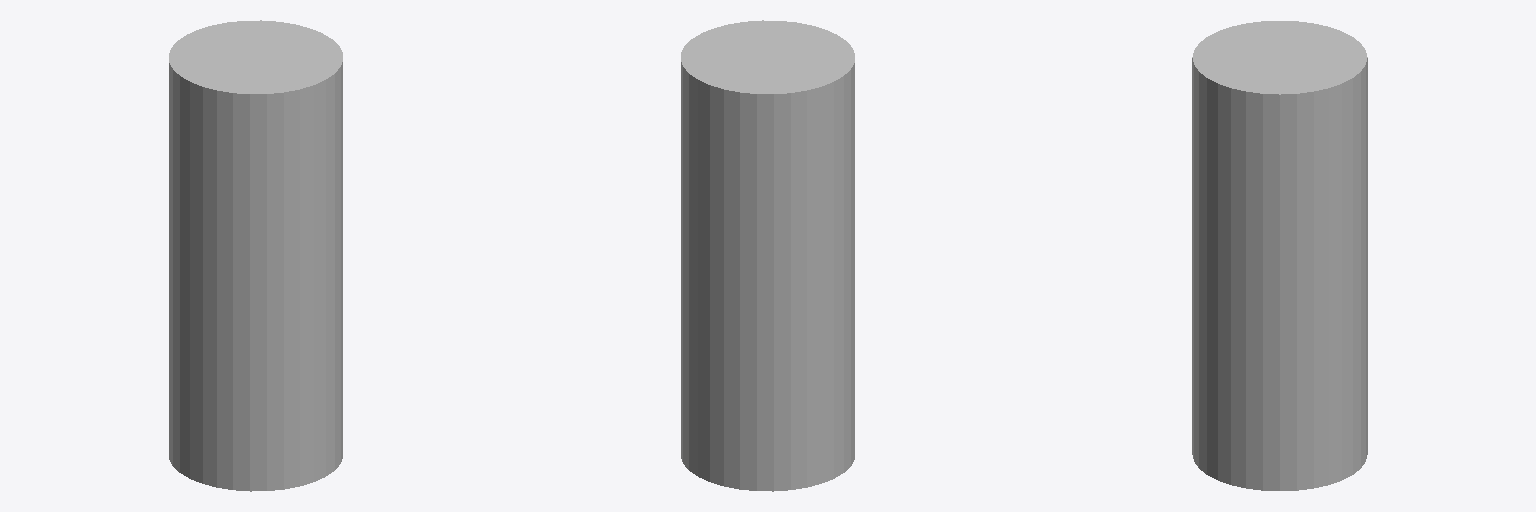
The robot description file, URDF, robot "ur5":
<?xml version="1.0" encoding="utf-8"?>
<!-- =================================================================================== -->
<!-- |    This document was autogenerated by xacro from ur5_robot.urdf.xacro           | -->
<!-- |    EDITING THIS FILE BY HAND IS NOT RECOMMENDED                                 | -->
<!-- =================================================================================== -->
<robot name="ur5" xmlns:xacro="http://wiki.ros.org/xacro">
  <gazebo>
    <plugin filename="libgazebo_ros_control.so" name="ros_control">
      <!--robotNamespace>/</robotNamespace-->
      <!--robotSimType>gazebo_ros_control/DefaultRobotHWSim</robotSimType-->
    </plugin>
    <!--
    <plugin name="gazebo_ros_power_monitor_controller" filename="libgazebo_ros_power_monitor.so">
      <alwaysOn>true</alwaysOn>
      <updateRate>1.0</updateRate>
      <timeout>5</timeout>
      <powerStateTopic>power_state</powerStateTopic>
      <powerStateRate>10.0</powerStateRate>
      <fullChargeCapacity>87.78</fullChargeCapacity>     
      <dischargeRate>-474</dischargeRate>
      <chargeRate>525</chargeRate>
      <dischargeVoltage>15.52</dischargeVoltage>
      <chargeVoltage>16.41</chargeVoltage>
    </plugin>
-->
  </gazebo>
  <!-- measured from model -->
  <!--property name="shoulder_height" value="0.089159" /-->
  <!--property name="shoulder_offset" value="0.13585" /-->
  <!-- shoulder_offset - elbow_offset + wrist_1_length = 0.10915 -->
  <!--property name="upper_arm_length" value="0.42500" /-->
  <!--property name="elbow_offset" value="0.1197" /-->
  <!-- CAD measured -->
  <!--property name="forearm_length" value="0.39225" /-->
  <!--property name="wrist_1_length" value="0.093" /-->
  <!-- CAD measured -->
  <!--property name="wrist_2_length" value="0.09465" /-->
  <!-- In CAD this distance is 0.930, but in the spec it is 0.09465 -->
  <!--property name="wrist_3_length" value="0.0823" /-->
  <!-- manually measured -->

  <material name="LightGrey">
    <color rgba="0.8 0.8 0.8 1.0"/>
  </material>

  <material name="DarkGrey">
    <color rgba="0.2 0.2 0.2 1.0"/>
  </material>

  <link name="base_link">
    <visual>
      <geometry>
        <mesh filename="visual/base.dae"/>
      </geometry>
      <material name="LightGrey"/>
    </visual>
    <collision>
      <geometry>
        <mesh filename="collision/base.stl"/>
      </geometry>
    </collision>
    <inertial>
      <mass value="4.0"/>
      <origin rpy="0 0 0" xyz="0.0 0.0 0.0"/>
      <inertia ixx="0.00443333156" ixy="0.0" ixz="0.0" iyy="0.00443333156" iyz="0.0" izz="0.0072"/>
    </inertial>
  </link>
  <joint name="shoulder_pan_joint" type="revolute">
    <parent link="base_link"/>
    <child link="shoulder_link"/>
    <origin rpy="0.0 0.0 0.0" xyz="0.0 0.0 0.089159"/>
    <axis xyz="0 0 1"/>
    <limit effort="150.0" lower="-6.28318530718" upper="6.28318530718" velocity="3.15"/>
    <dynamics damping="0.0" friction="0.0"/>
  </joint>
  <link name="shoulder_link">
    <visual>
      <geometry>
        <mesh filename="visual/shoulder.dae"/>
      </geometry>
      <material name="DarkGrey"/>
    </visual>
    <collision>
      <geometry>
        <mesh filename="collision/shoulder.stl"/>
      </geometry>
    </collision>
    <inertial>
      <mass value="3.7"/>
      <origin rpy="0 0 0" xyz="0.0 0.0 0.0"/>
      <inertia ixx="0.010267495893" ixy="0.0" ixz="0.0" iyy="0.010267495893" iyz="0.0" izz="0.00666"/>
    </inertial>
  </link>
  <joint name="shoulder_lift_joint" type="revolute">
    <parent link="shoulder_link"/>
    <child link="upper_arm_link"/>
    <origin rpy="0.0 1.57079632679 0.0" xyz="0.0 0.13585 0.0"/>
    <axis xyz="0 1 0"/>
    <limit effort="150.0" lower="-6.28318530718" upper="6.28318530718" velocity="3.15"/>
    <dynamics damping="0.0" friction="0.0"/>
  </joint>
  <link name="upper_arm_link">
    <visual>
      <geometry>
        <mesh filename="visual/upperarm.dae"/>
      </geometry>
      <material name="LightGrey"/>
    </visual>
    <collision>
      <geometry>
        <mesh filename="collision/upperarm.stl"/>
      </geometry>
    </collision>
    <inertial>
      <mass value="8.393"/>
      <origin rpy="0 0 0" xyz="0.0 0.0 0.28"/>
      <inertia ixx="0.22689067591" ixy="0.0" ixz="0.0" iyy="0.22689067591" iyz="0.0" izz="0.0151074"/>
    </inertial>
  </link>
  <joint name="elbow_joint" type="revolute">
    <parent link="upper_arm_link"/>
    <child link="forearm_link"/>
    <origin rpy="0.0 0.0 0.0" xyz="0.0 -0.1197 0.425"/>
    <axis xyz="0 1 0"/>
    <limit effort="150.0" lower="-3.14159265359" upper="3.14159265359" velocity="3.15"/>
    <dynamics damping="0.0" friction="0.0"/>
  </joint>
  <link name="forearm_link">
    <visual>
      <geometry>
        <mesh filename="visual/forearm.dae"/>
      </geometry>
      <material name="DarkGrey"/>
    </visual>
    <collision>
      <geometry>
        <mesh filename="collision/forearm.stl"/>
      </geometry>
    </collision>
    <inertial>
      <mass value="2.275"/>
      <origin rpy="0 0 0" xyz="0.0 0.0 0.196125"/>
      <inertia ixx="0.0312167910289" ixy="0.0" ixz="0.0" iyy="0.0312167910289" iyz="0.0" izz="0.004095"/>
    </inertial>
  </link>
  <joint name="wrist_1_joint" type="revolute">
    <parent link="forearm_link"/>
    <child link="wrist_1_link"/>
    <origin rpy="0.0 1.57079632679 0.0" xyz="0.0 0.0 0.39225"/>
    <axis xyz="0 1 0"/>
    <limit effort="28.0" lower="-6.28318530718" upper="6.28318530718" velocity="3.2"/>
    <dynamics damping="0.0" friction="0.0"/>
  </joint>
  <link name="wrist_1_link">
    <visual>
      <geometry>
        <mesh filename="visual/wrist1.dae"/>
      </geometry>
      <material name="LightGrey"/>
    </visual>
    <collision>
      <geometry>
        <mesh filename="collision/wrist1.stl"/>
      </geometry>
    </collision>
    <inertial>
      <mass value="1.219"/>
      <origin rpy="0 0 0" xyz="0.0 0.093 0.0"/>
      <inertia ixx="0.00255989897604" ixy="0.0" ixz="0.0" iyy="0.00255989897604" iyz="0.0" izz="0.0021942"/>
    </inertial>
  </link>
  <joint name="wrist_2_joint" type="revolute">
    <parent link="wrist_1_link"/>
    <child link="wrist_2_link"/>
    <origin rpy="0.0 0.0 0.0" xyz="0.0 0.093 0.0"/>
    <axis xyz="0 0 1"/>
    <limit effort="28.0" lower="-6.28318530718" upper="6.28318530718" velocity="3.2"/>
    <dynamics damping="0.0" friction="0.0"/>
  </joint>
  <link name="wrist_2_link">
    <visual>
      <geometry>
        <mesh filename="visual/wrist2.dae"/>
      </geometry>
      <material name="DarkGrey"/>
    </visual>
    <collision>
      <geometry>
        <mesh filename="collision/wrist2.stl"/>
      </geometry>
    </collision>
    <inertial>
      <mass value="1.219"/>
      <origin rpy="0 0 0" xyz="0.0 0.0 0.09465"/>
      <inertia ixx="0.00255989897604" ixy="0.0" ixz="0.0" iyy="0.00255989897604" iyz="0.0" izz="0.0021942"/>
    </inertial>
  </link>
  <joint name="wrist_3_joint" type="revolute">
    <parent link="wrist_2_link"/>
    <child link="wrist_3_link"/>
    <origin rpy="0.0 0.0 0.0" xyz="0.0 0.0 0.09465"/>
    <axis xyz="0 1 0"/>
    <limit effort="28.0" lower="-6.28318530718" upper="6.28318530718" velocity="3.2"/>
    <dynamics damping="0.0" friction="0.0"/>
  </joint>
  <link name="wrist_3_link">
    <visual>
      <geometry>
        <mesh filename="visual/wrist3.dae"/>
      </geometry>
      <material name="LightGrey"/>
    </visual>
    <collision>
      <geometry>
        <mesh filename="collision/wrist3.stl"/>
      </geometry>
    </collision>
    <inertial>
      <mass value="0.1879"/>
      <origin rpy="1.57079632679 0 0" xyz="0.0 0.06505 0.0"/>
      <inertia ixx="8.46958911216e-05" ixy="0.0" ixz="0.0" iyy="8.46958911216e-05" iyz="0.0" izz="0.0001321171875"/>
    </inertial>
  </link>
  <joint name="ee_fixed_joint" type="fixed">
    <parent link="wrist_3_link"/>
    <child link="ee_link"/>
    <origin rpy="0.0 0.0 1.57079632679" xyz="0.0 0.13 0.0"/>
  </joint>
  <link name="ee_link">
    <collision>
      <geometry>
        <box size="0.14 0.12 0.08"/>
      </geometry>
      <origin rpy="0 0 0" xyz="0.02 0 0"/>
    </collision>
    <visual>
      <geometry>
        <cylinder length="0.1" radius="0.02"/>
      </geometry>
      <material name="LightGrey"/>
    </visual>
  </link>
  <transmission name="shoulder_pan_trans">
    <type>transmission_interface/SimpleTransmission</type>
    <joint name="shoulder_pan_joint">
      <hardwareInterface>hardware_interface/PositionJointInterface</hardwareInterface>
    </joint>
    <actuator name="shoulder_pan_motor">
      <mechanicalReduction>1</mechanicalReduction>
    </actuator>
  </transmission>
  <transmission name="shoulder_lift_trans">
    <type>transmission_interface/SimpleTransmission</type>
    <joint name="shoulder_lift_joint">
      <hardwareInterface>hardware_interface/PositionJointInterface</hardwareInterface>
    </joint>
    <actuator name="shoulder_lift_motor">
      <mechanicalReduction>1</mechanicalReduction>
    </actuator>
  </transmission>
  <transmission name="elbow_trans">
    <type>transmission_interface/SimpleTransmission</type>
    <joint name="elbow_joint">
      <hardwareInterface>hardware_interface/PositionJointInterface</hardwareInterface>
    </joint>
    <actuator name="elbow_motor">
      <mechanicalReduction>1</mechanicalReduction>
    </actuator>
  </transmission>
  <transmission name="wrist_1_trans">
    <type>transmission_interface/SimpleTransmission</type>
    <joint name="wrist_1_joint">
      <hardwareInterface>hardware_interface/PositionJointInterface</hardwareInterface>
    </joint>
    <actuator name="wrist_1_motor">
      <mechanicalReduction>1</mechanicalReduction>
    </actuator>
  </transmission>
  <transmission name="wrist_2_trans">
    <type>transmission_interface/SimpleTransmission</type>
    <joint name="wrist_2_joint">
      <hardwareInterface>hardware_interface/PositionJointInterface</hardwareInterface>
    </joint>
    <actuator name="wrist_2_motor">
      <mechanicalReduction>1</mechanicalReduction>
    </actuator>
  </transmission>
  <transmission name="wrist_3_trans">
    <type>transmission_interface/SimpleTransmission</type>
    <joint name="wrist_3_joint">
      <hardwareInterface>hardware_interface/PositionJointInterface</hardwareInterface>
    </joint>
    <actuator name="wrist_3_motor">
      <mechanicalReduction>1</mechanicalReduction>
    </actuator>
  </transmission>
  <gazebo reference="shoulder_link">
    <selfCollide>true</selfCollide>
  </gazebo>
  <gazebo reference="upper_arm_link">
    <selfCollide>true</selfCollide>
  </gazebo>
  <gazebo reference="forearm_link">
    <selfCollide>true</selfCollide>
  </gazebo>
  <gazebo reference="wrist_1_link">
    <selfCollide>true</selfCollide>
  </gazebo>
  <gazebo reference="wrist_3_link">
    <selfCollide>true</selfCollide>
  </gazebo>
  <gazebo reference="wrist_2_link">
    <selfCollide>true</selfCollide>
  </gazebo>
  <gazebo reference="ee_link">
    <selfCollide>true</selfCollide>
  </gazebo>
  <!-- ROS base_link to UR 'Base' Coordinates transform -->
  <link name="base"/>
  <joint name="base_link-base_fixed_joint" type="fixed">
    <!-- NOTE: this rotation is only needed as long as base_link itself is
                 not corrected wrt the real robot (ie: rotated over 180
                 degrees)
      -->
    <origin rpy="0 0 -3.14159265359" xyz="0 0 0"/>
    <parent link="base_link"/>
    <child link="base"/>
  </joint>
  <!-- Frame coincident with all-zeros TCP on UR controller -->
  <link name="tool0"/>
  <joint name="wrist_3_link-tool0_fixed_joint" type="fixed">
    <origin rpy="-1.57079632679 0 0" xyz="0 0.0823 0"/>
    <parent link="wrist_3_link"/>
    <child link="tool0"/>
  </joint>
  <link name="world"/>
  <joint name="world_joint" type="fixed">
    <parent link="world"/>
    <child link="base_link"/>
    <origin rpy="0.0 0.0 0.0" xyz="0.0 0.0 0.0"/>
  </joint>
</robot>

--- Render facts (derived) ---
The picture shows the robot from 3 angles, left to right: view 1: azimuth 30°, elevation 25°; view 2: azimuth 150°, elevation 25°; view 3: azimuth 270°, elevation 25°; orthographic projection.
Robot: ur5 — 11 links, 10 joints (6 revolute, 4 fixed); root link world; default pose: every joint at zero.
Links seen in each view (by area): view 1: ee_link; view 2: ee_link; view 3: ee_link.
Link boxes in pixels (left/top/right/bottom): ee_link: left=169, top=20, right=342, bottom=491; ee_link: left=681, top=20, right=854, bottom=491; ee_link: left=1192, top=21, right=1367, bottom=490.
Bounding box of the posed robot: 0.04 × 0.04 × 0.1 m (x, y, z).
Meshes: 7 distinct files referenced, 0 mesh visuals loaded (none loaded); not drawn: 7 (reference not matched to a file when rendering).